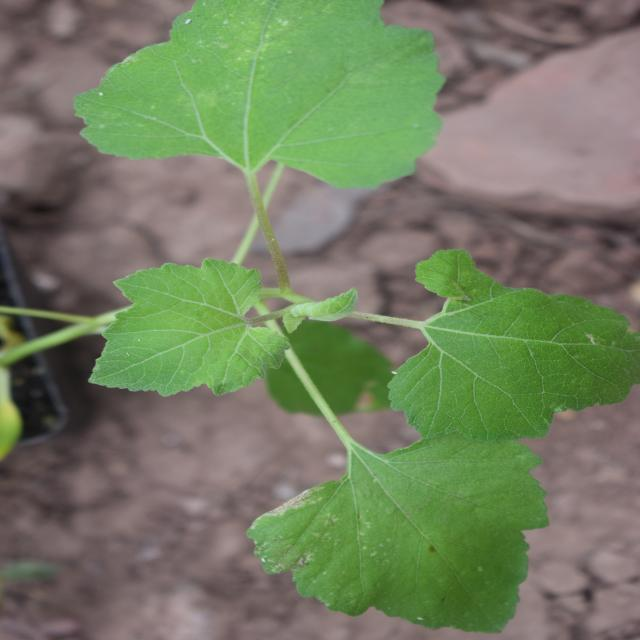cocklebur: (15, 80, 637, 578)
